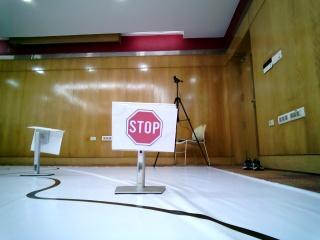stop: (114, 106, 173, 152)
